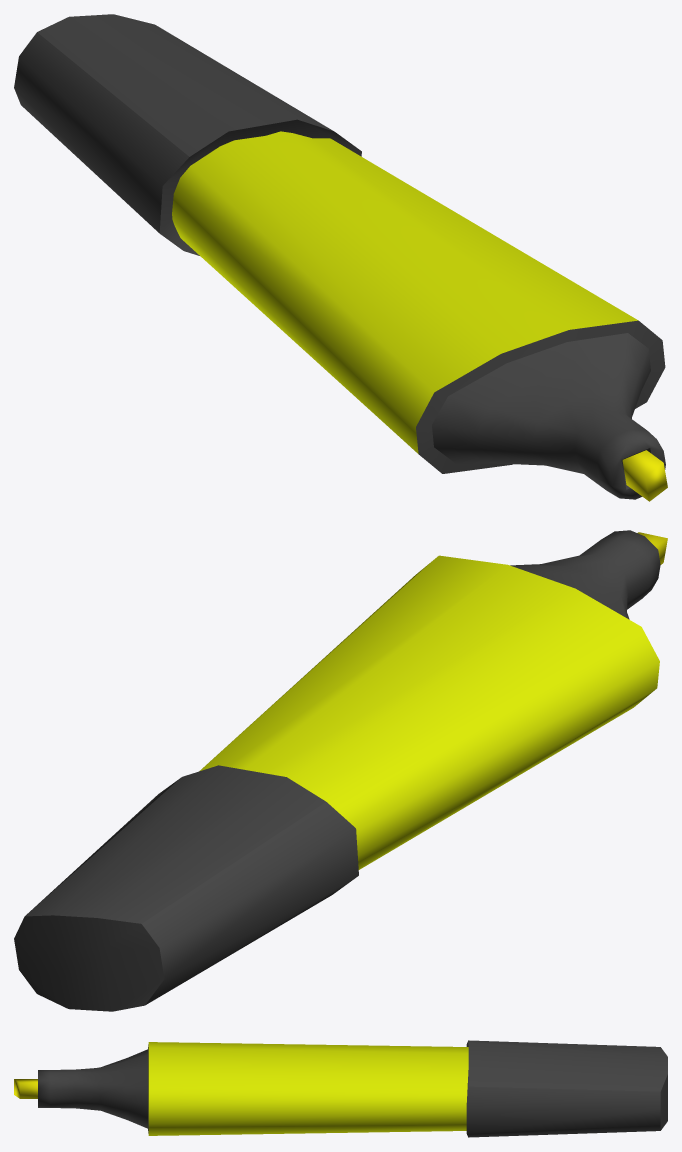
Rendered from highlighter.fbx.
3 views of the same model, one above another, from view 1: azimuth 30°, elevation 25°; view 2: azimuth 150°, elevation 25°; view 3: azimuth 270°, elevation 25° (orthographic). The views are drawn at different scales.
Parts seen in each view (by area): view 1: highlighter_opt:highlighter, highlighter_opt:highlighterCap; view 2: highlighter_opt:highlighter, highlighter_opt:highlighterCap; view 3: highlighter_opt:highlighter, highlighter_opt:highlighterCap.
Part boxes in pixels (<box>): highlighter_opt:highlighter: <box>172,131,667,501</box>; highlighter_opt:highlighterCap: <box>14,14,361,255</box>; highlighter_opt:highlighter: <box>199,530,667,869</box>; highlighter_opt:highlighterCap: <box>14,765,358,1011</box>; highlighter_opt:highlighter: <box>14,1042,468,1135</box>; highlighter_opt:highlighterCap: <box>466,1040,667,1137</box>.
Size of the model in its own units: 9.74 by 5 by 38.92.
